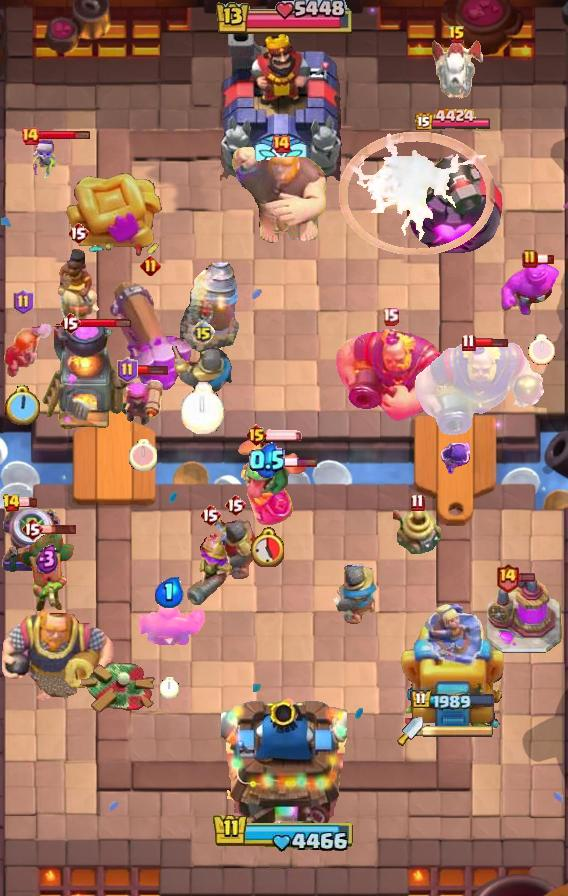balloon: (232, 144, 330, 246)
bar: (398, 595, 508, 731)
barbarian-evolution: (339, 133, 495, 256)
bomb-tower: (182, 531, 238, 609)
clock: (212, 812, 356, 854), (213, 0, 355, 38)
electro-spirit: (249, 442, 285, 478), (156, 576, 185, 607), (36, 544, 59, 574)
electro-wizard: (233, 437, 311, 499)
elite-barbarian: (55, 248, 101, 328)
elixir: (181, 382, 225, 434), (6, 385, 43, 427), (250, 527, 284, 567), (129, 439, 157, 471), (528, 335, 555, 365), (161, 677, 180, 699)
emote: (264, 456, 318, 468), (37, 131, 91, 142), (80, 318, 133, 329), (265, 429, 303, 441), (42, 523, 79, 535), (474, 337, 509, 349), (136, 364, 169, 376), (535, 253, 555, 265), (19, 497, 38, 508), (516, 572, 535, 583)
firecracker: (173, 346, 235, 394), (215, 511, 257, 581), (331, 563, 379, 624)
firecracker-evolution: (241, 459, 295, 525)
furnace: (105, 280, 195, 394)
giant-skeleton: (0, 603, 116, 703)
goblin: (28, 138, 60, 180), (439, 443, 469, 479)
goblin-barrel: (18, 534, 76, 614)
goblin-cage: (0, 505, 64, 575)
goblin-drill: (393, 506, 441, 554)
hog-rider: (0, 319, 54, 379)
hunter: (41, 322, 129, 432)
king-tower: (219, 21, 349, 181), (221, 690, 347, 826)
king-tower-bar: (423, 724, 495, 738)
lightning: (411, 339, 549, 435), (334, 327, 447, 423)
magic-archer: (180, 261, 240, 353)
mini-pekka: (429, 37, 485, 99)
pekka: (484, 573, 562, 655)
selected: (410, 688, 496, 712), (414, 108, 492, 133)
text: (495, 562, 520, 593), (191, 321, 215, 345), (244, 423, 267, 447), (14, 289, 35, 315), (117, 357, 138, 383), (67, 221, 89, 245), (59, 311, 81, 335), (224, 493, 246, 517), (199, 503, 221, 527), (21, 517, 43, 541), (140, 255, 161, 277), (20, 126, 40, 146), (271, 134, 291, 154), (3, 493, 22, 513), (448, 25, 466, 45), (382, 307, 399, 326), (522, 249, 538, 269), (461, 332, 476, 351), (410, 493, 425, 511)
tombstone: (122, 375, 166, 425)
tornado: (132, 601, 206, 653), (500, 261, 568, 317)
tower-bar: (403, 138, 503, 256)
